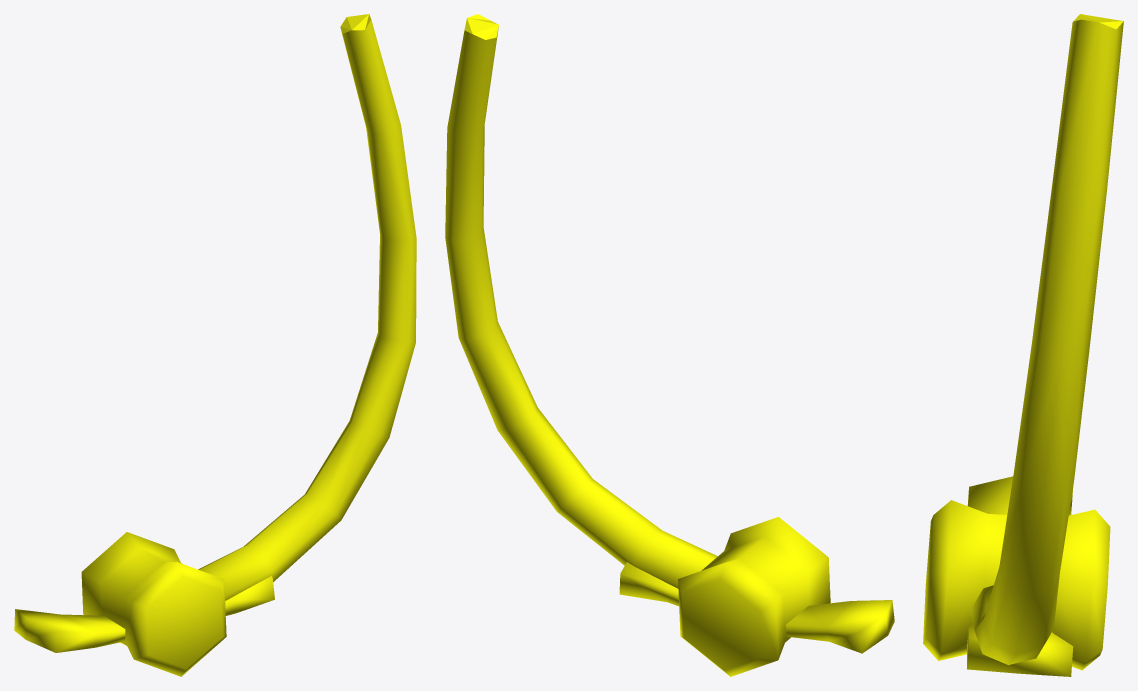
The model's file is bone_whale_piece_rib00.glb.
3 views of the same model, side by side, from view 1: azimuth 30°, elevation 25°; view 2: azimuth 150°, elevation 25°; view 3: azimuth 270°, elevation 25° (orthographic). The views are drawn at different scales.
Visible parts, largest first — view 1: bone_whale_piece_rib00; view 2: bone_whale_piece_rib00; view 3: bone_whale_piece_rib00.
Part boxes in pixels (x1=…): bone_whale_piece_rib00: x1=14, y1=14, x2=416, y2=676; bone_whale_piece_rib00: x1=445, y1=14, x2=894, y2=676; bone_whale_piece_rib00: x1=923, y1=14, x2=1123, y2=676.
Bounding box in the file's own units: 8.5 × 11.49 × 2.55.
1 material, 1 textured.
